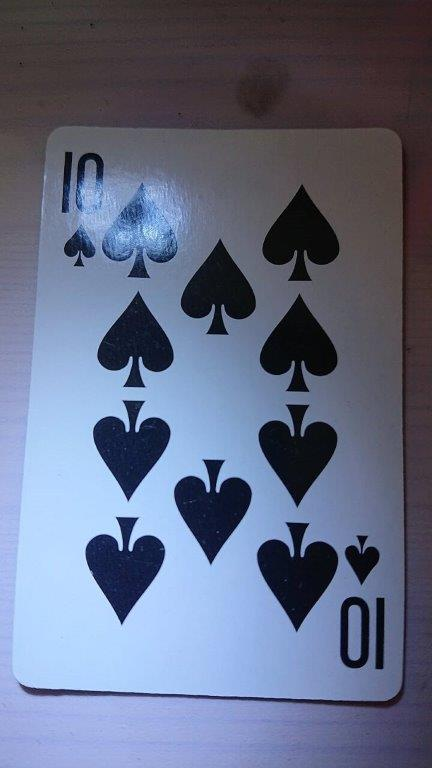10S: (10, 123, 406, 707)
